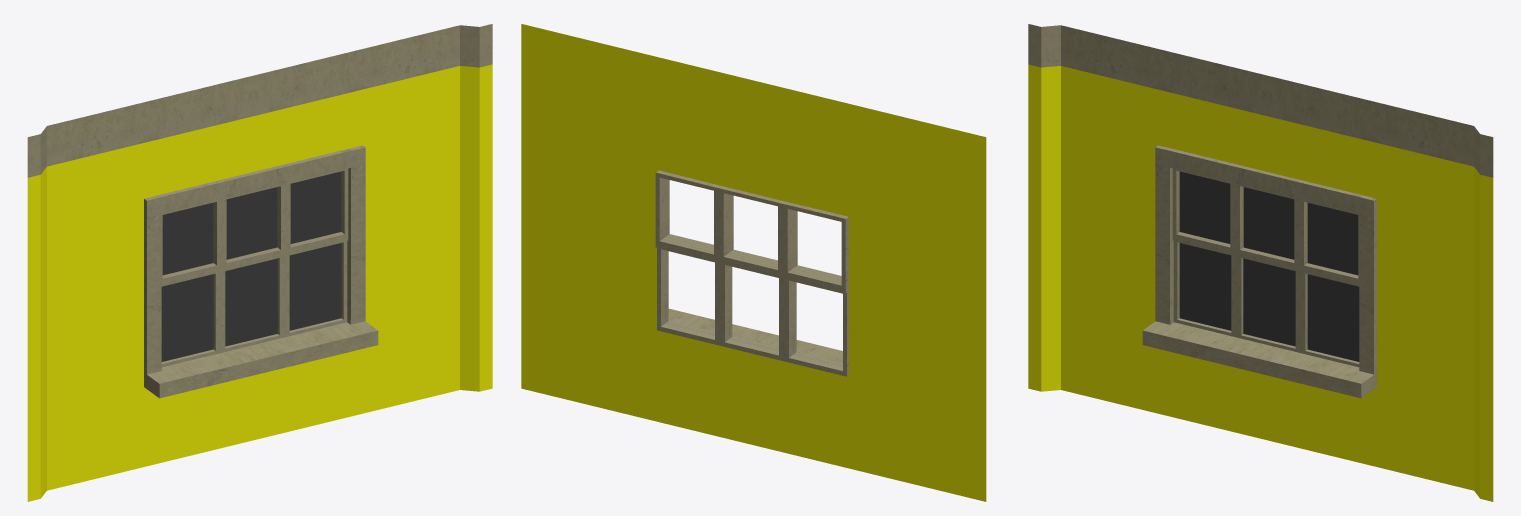
File: brick-inset-window.glb
The picture shows the model from 3 angles, left to right: view 1: azimuth 30°, elevation 25°; view 2: azimuth 150°, elevation 25°; view 3: azimuth 330°, elevation 25°; orthographic projection.
Visible parts, largest first — view 1: Brick_Inset_Window; view 2: Brick_Inset_Window; view 3: Brick_Inset_Window.
Boxes of the visible parts, <box> form: Brick_Inset_Window: <box>27,24,492,501</box>; Brick_Inset_Window: <box>521,24,986,501</box>; Brick_Inset_Window: <box>1028,24,1493,501</box>.
Bounding box in the file's own units: 4 × 3 × 0.3743.
Materials: 4 (1 with a texture image).
